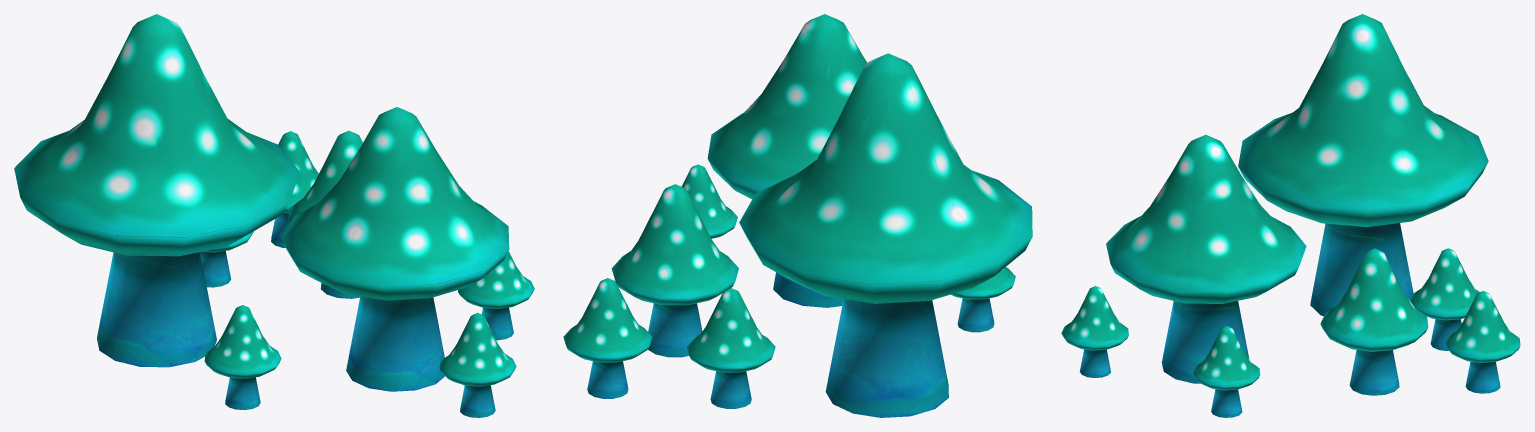
The model's file is Plant_007.fbx.
3 renders of one model, left to right at view 1: azimuth 30°, elevation 25°; view 2: azimuth 150°, elevation 25°; view 3: azimuth 270°, elevation 25°, orthographic. The views are drawn at different scales.
Parts seen in each view (by area): view 1: Plant_007; view 2: Plant_007; view 3: Plant_007.
Boxes of the visible parts, x1,y1,x2,y2 form: Plant_007: [14, 14, 534, 417]; Plant_007: [563, 14, 1032, 417]; Plant_007: [1061, 14, 1520, 417].
Bounding box in the file's own units: 205 × 154 × 222.
